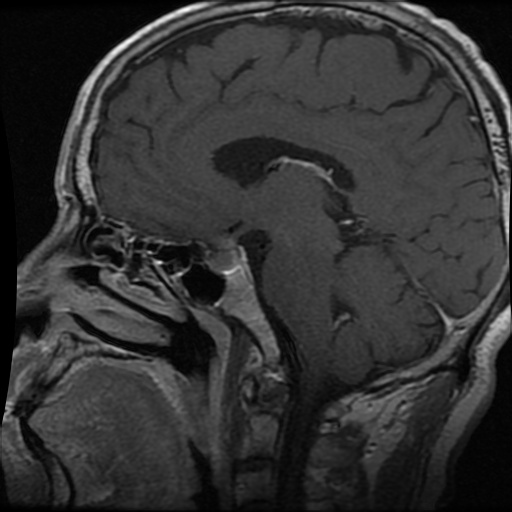pituitary: (205, 246, 243, 272)
